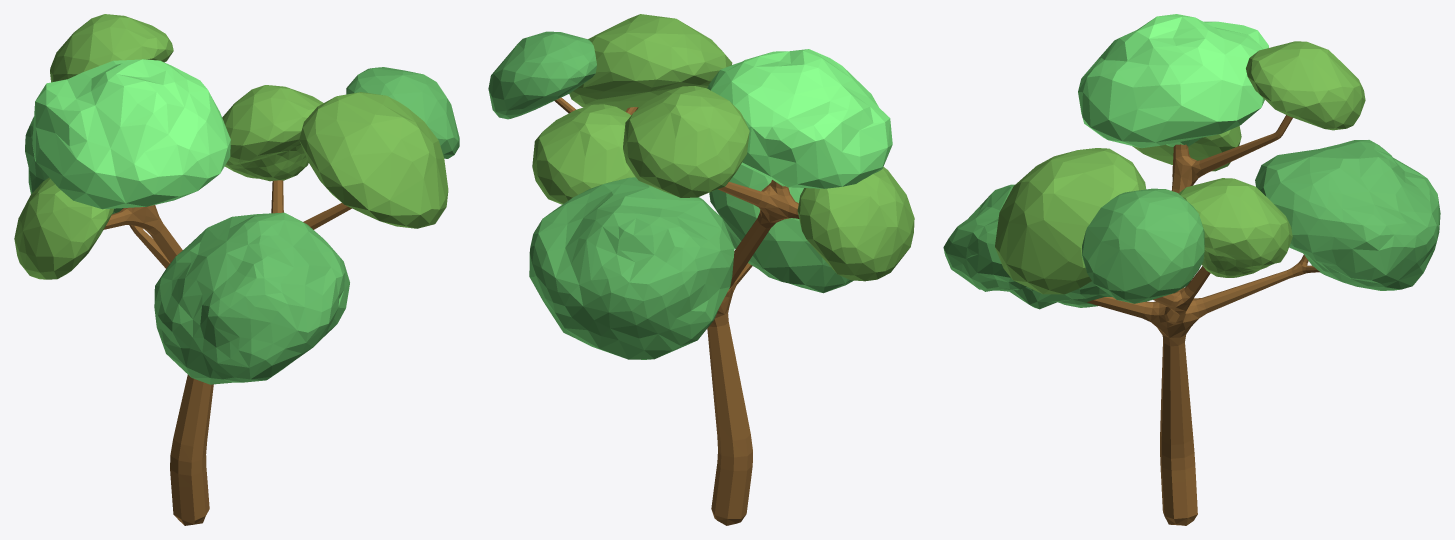
File: tree.glb
3 views of the same model, side by side, from view 1: azimuth 30°, elevation 25°; view 2: azimuth 150°, elevation 25°; view 3: azimuth 270°, elevation 25° (orthographic). The views are drawn at different scales.
Visible parts, largest first — view 1: Object_5; view 2: Object_5; view 3: Object_5.
Part boxes in pixels (left/top/right/bottom): Object_5: left=14, top=14, right=459, bottom=525; Object_5: left=488, top=14, right=914, bottom=525; Object_5: left=943, top=14, right=1440, bottom=525.
Size of the model in its own units: 6.81 by 7.39 by 7.07.
